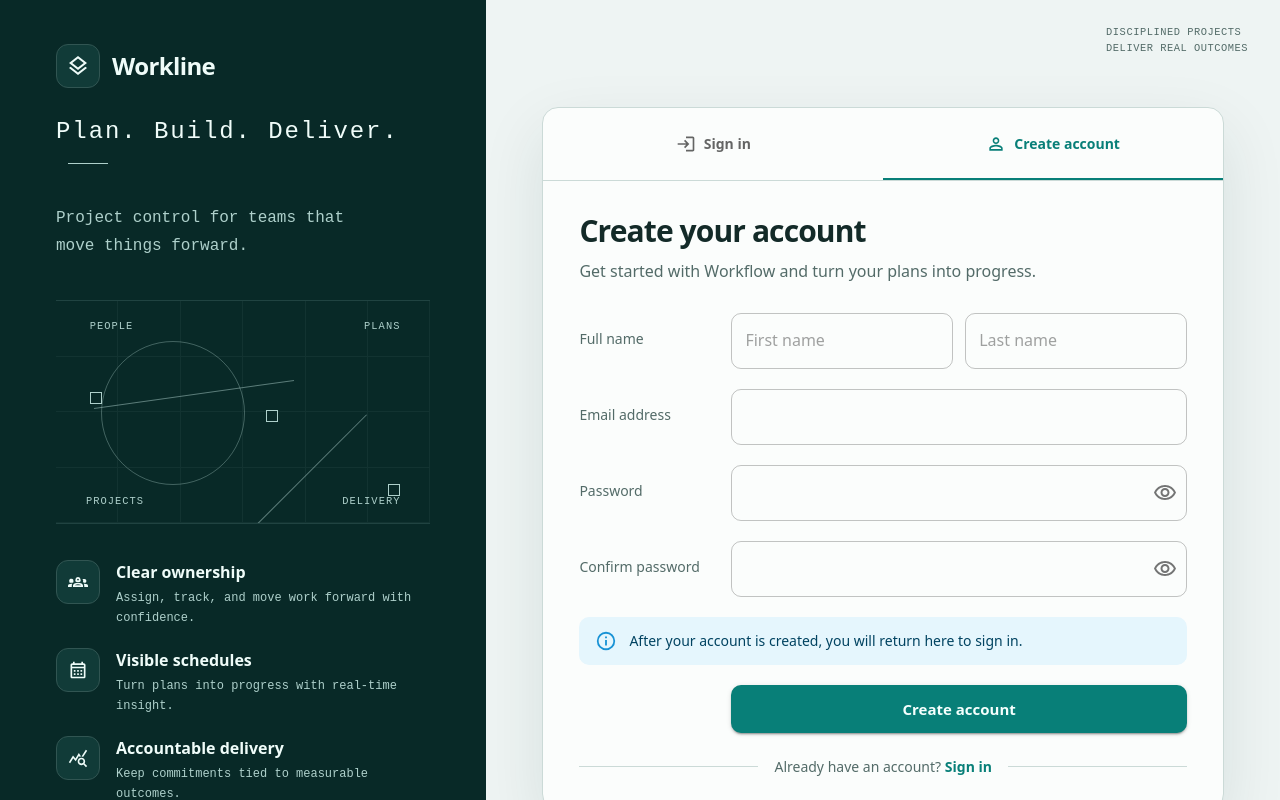
registration flow › validates registration before sending a request
This screenshot has width=1280, height=800.
Step 1. Click the button "Create account" → [959, 709], box [731,685,1187,733]
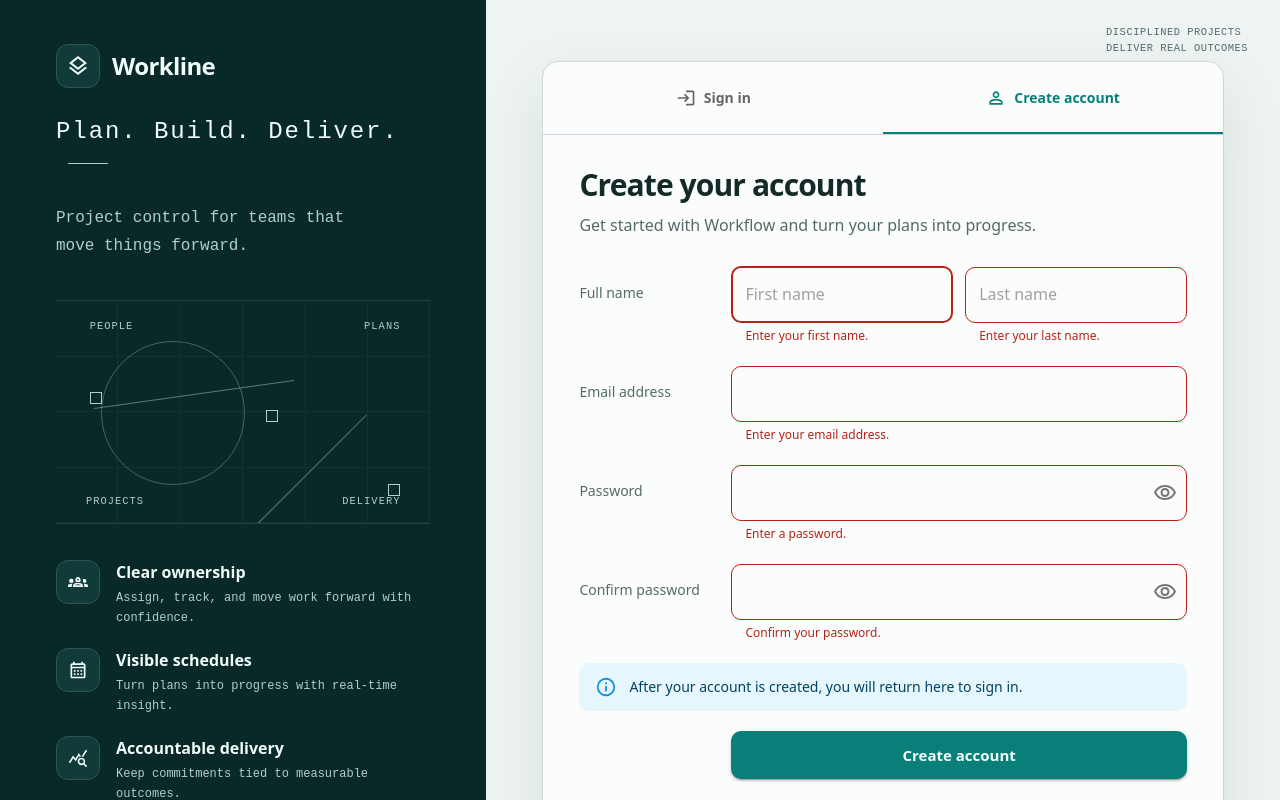
Check: the text "Enter your first name." is shown, box [745,327,868,344]
Check: the text "Enter your last name." is shown, box [979,327,1100,344]
Check: the text "Enter your email address." is shown, box [745,426,889,443]
